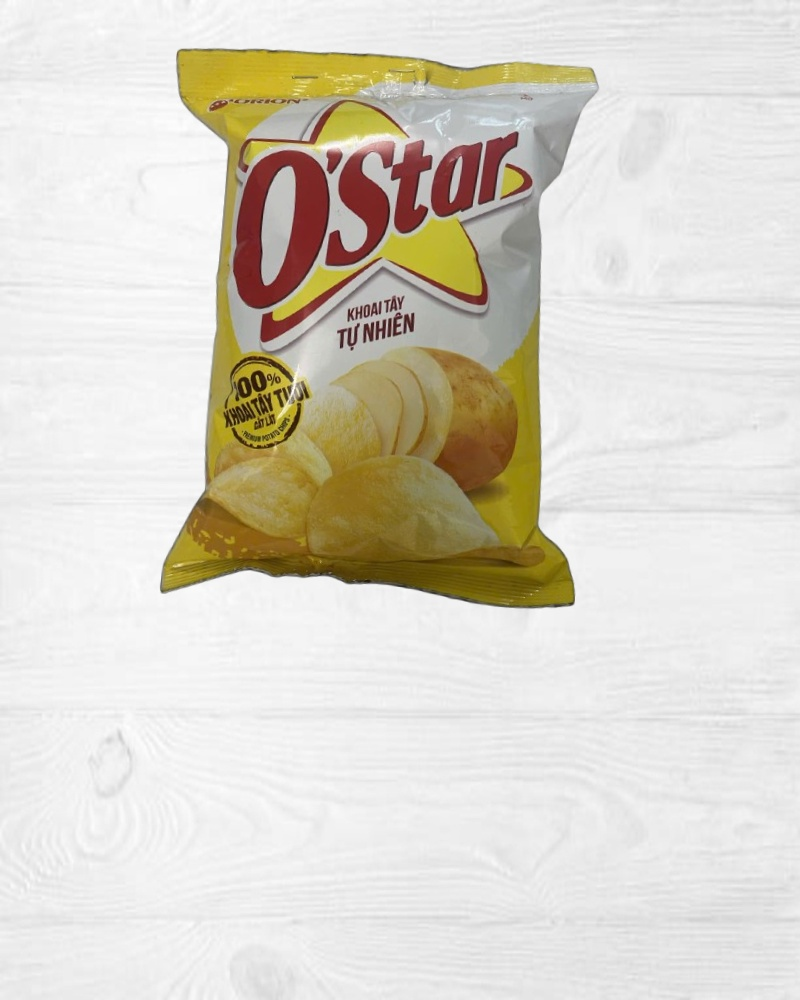O'star: (132, 32, 621, 629)
